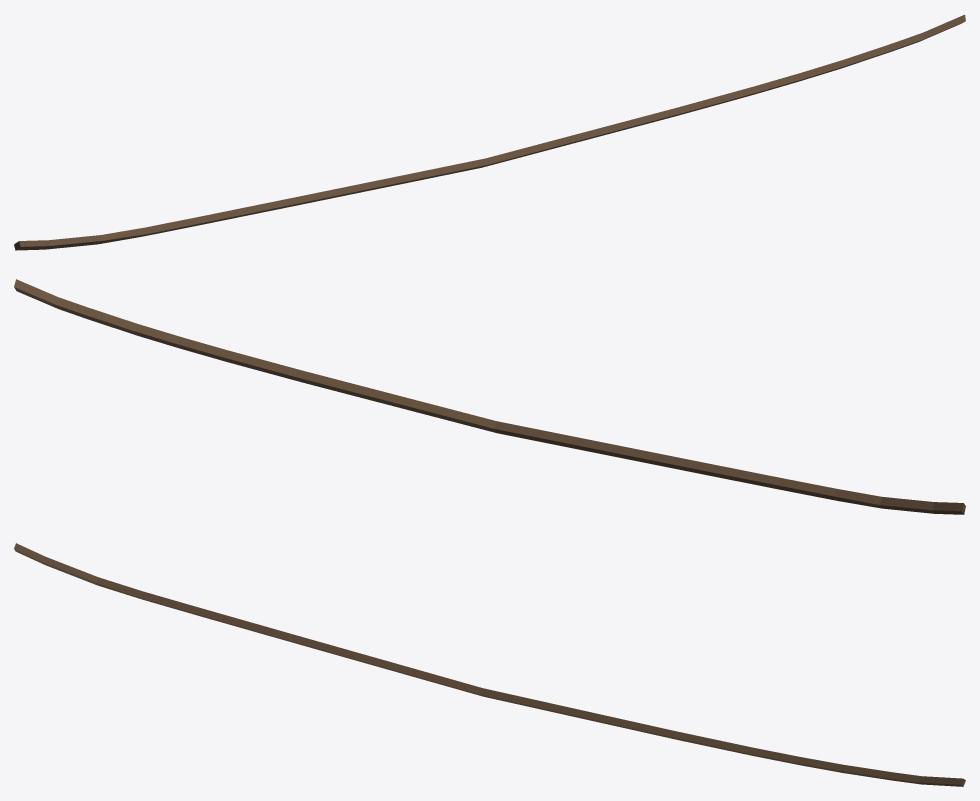
Rendered from Cave_Lair_Rope_Long_01.fbx.
The picture shows the model from 3 angles, top to bottom: view 1: azimuth 30°, elevation 25°; view 2: azimuth 150°, elevation 25°; view 3: azimuth 330°, elevation 25°; orthographic projection.
Visible parts, largest first — view 1: Cave_Lair_Rope_Long_01; view 2: Cave_Lair_Rope_Long_01; view 3: Cave_Lair_Rope_Long_01.
Boxes of the visible parts, x1,y1,x2,y2 form: Cave_Lair_Rope_Long_01: (14,14,965,250); Cave_Lair_Rope_Long_01: (14,279,965,514); Cave_Lair_Rope_Long_01: (14,543,965,786).
Size of the model in its own units: 12.29 by 0.5188 by 0.1616.
